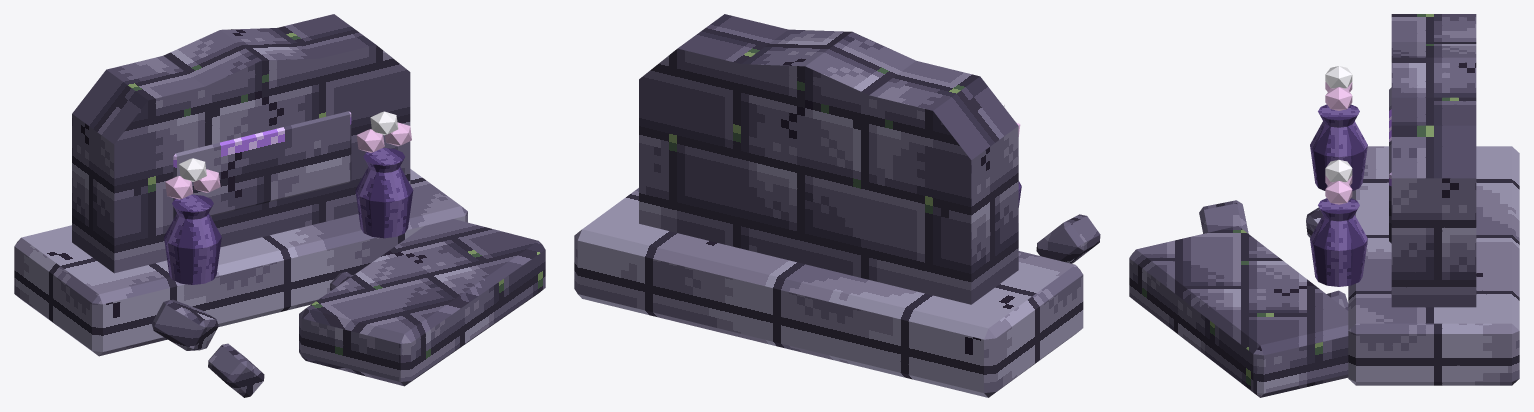
The model's file is tower_grave_c.glb.
3 views of the same model, side by side, from view 1: azimuth 30°, elevation 25°; view 2: azimuth 150°, elevation 25°; view 3: azimuth 270°, elevation 25° (orthographic). The views are drawn at different scales.
Visible parts, largest first — view 1: Column, Stub; view 2: Column, Stub; view 3: Column, Stub.
Boxes of the visible parts, x1,y1,x2,y2 form: Column: (14, 14, 467, 356); Stub: (152, 219, 545, 397); Column: (574, 14, 1083, 397); Stub: (1036, 214, 1100, 263); Column: (1310, 14, 1519, 385); Stub: (1129, 200, 1348, 397).
Bounding box in the file's own units: 1.78 × 1.04 × 1.48.
Materials: 6 (4 with a texture image).
